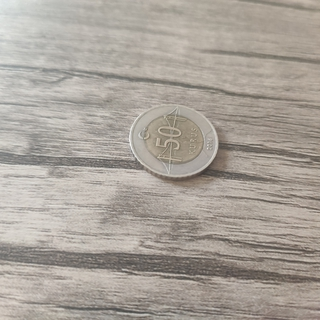50KURUS: (126, 102, 220, 182)
